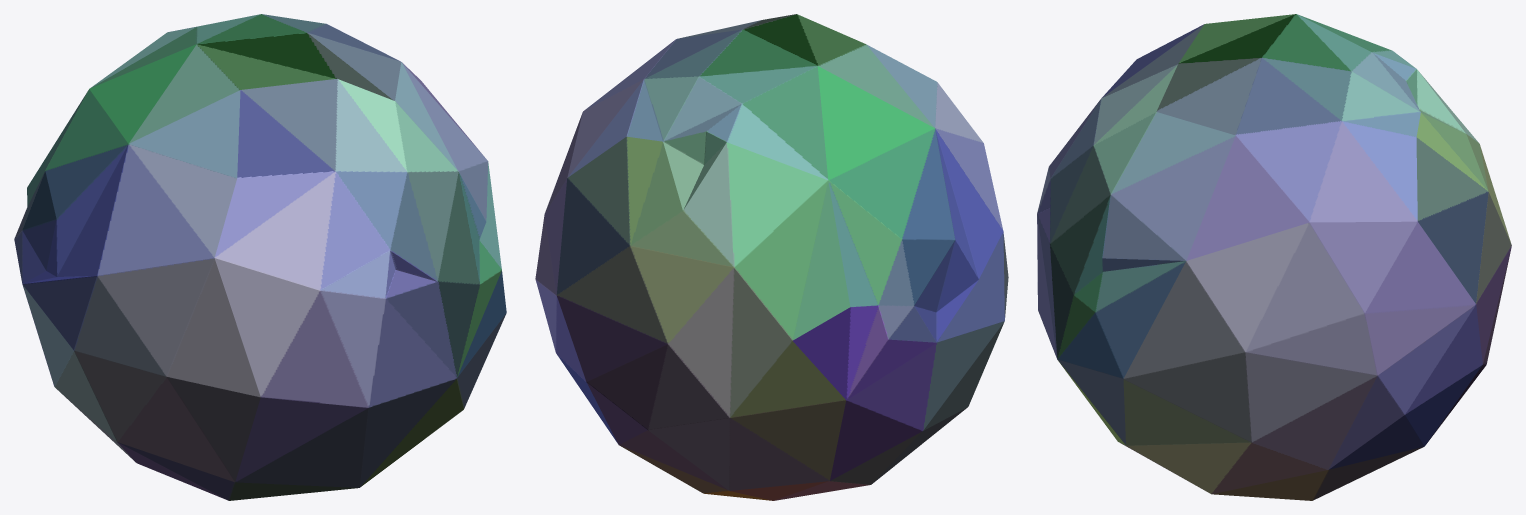
The model's file is planet.fbx.
The picture shows the model from 3 angles, left to right: view 1: azimuth 30°, elevation 25°; view 2: azimuth 150°, elevation 25°; view 3: azimuth 270°, elevation 25°; orthographic projection.
Visible parts, largest first — view 1: Mesh_0; view 2: Mesh_0; view 3: Mesh_0.
Part boxes in pixels (left/top/right/bottom): Mesh_0: left=14, top=14, right=506, bottom=500; Mesh_0: left=535, top=14, right=1008, bottom=500; Mesh_0: left=1037, top=14, right=1511, bottom=500.
Size of the model in its own units: 118 by 118 by 116.
Materials: 1 (1 with a texture image).
